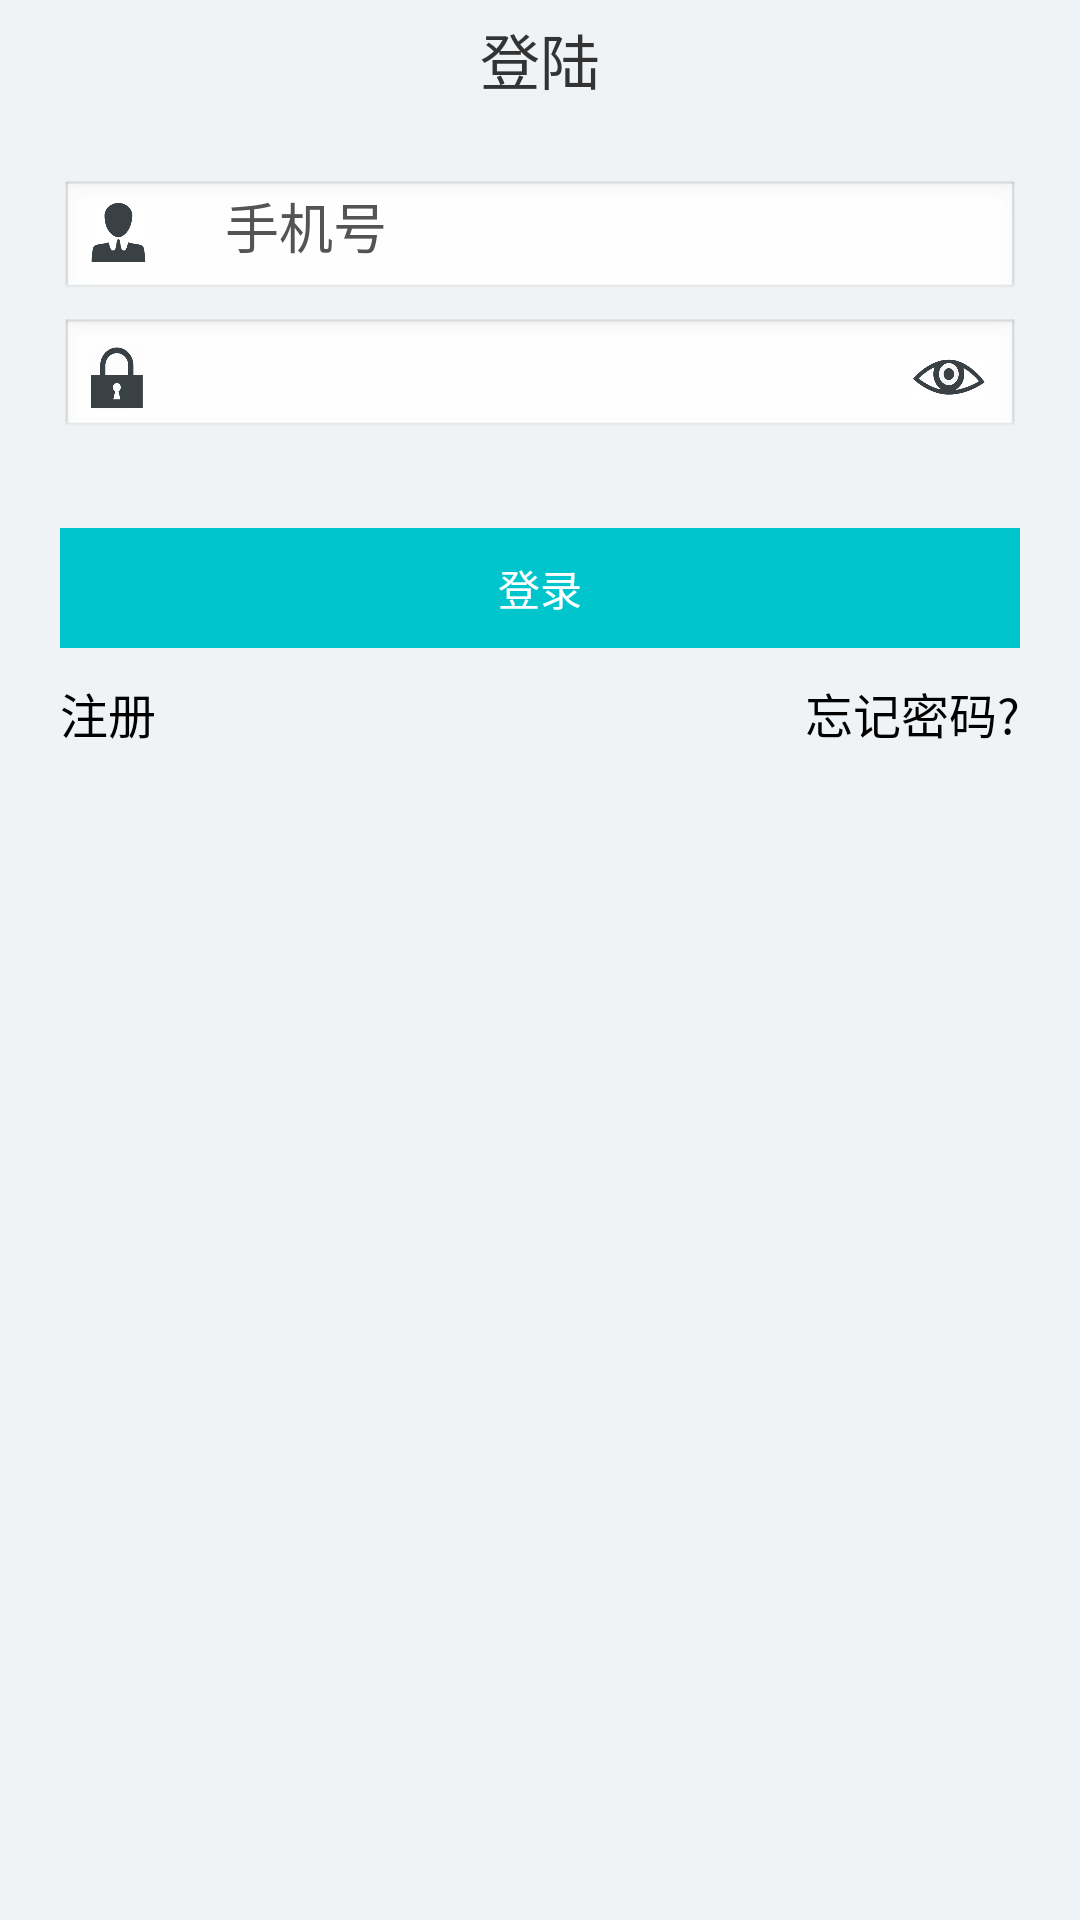

Icons on this 1080 × 1920 Android screen, each with its box as (x1, y1, x2, y2):
eye: (913, 359, 985, 395)
password: (91, 347, 143, 408)
username: (91, 203, 145, 262)
